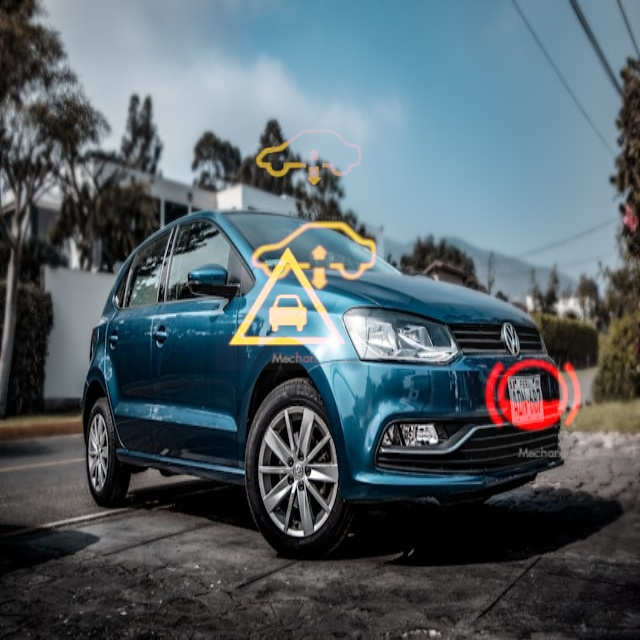symbol: (229, 174, 398, 343), (216, 227, 359, 370), (238, 88, 380, 230), (465, 328, 601, 464)
